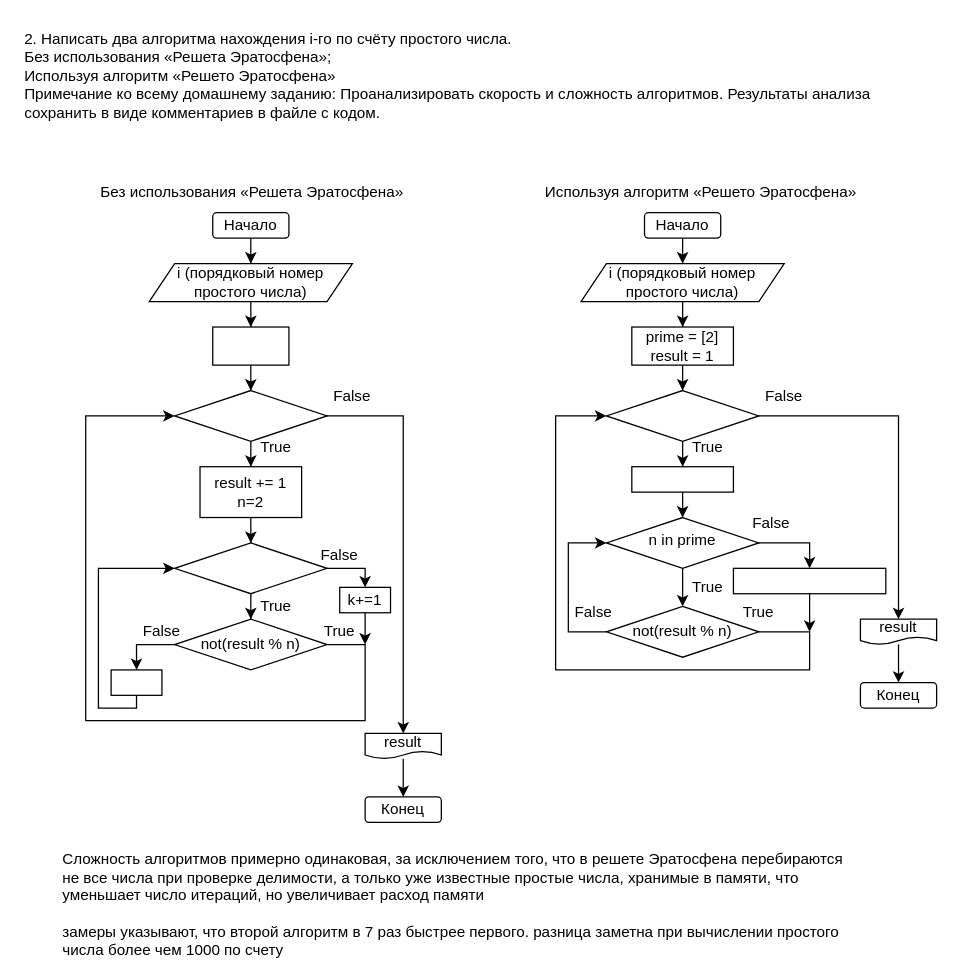
This 959x980 diagram has some shape labels left out. The centre of each missing label's shape, as x and y in pixels:
"k != i" goes at [250,415].
"k = 0 result = 1" goes at [250,345].
"len(prime) < i" goes at [682,415].
"n+=1" goes at [136,682].
"n<result" goes at [250,568].
"prime.append(result)" goes at [809,580].
"result += 1" goes at [682,478].
